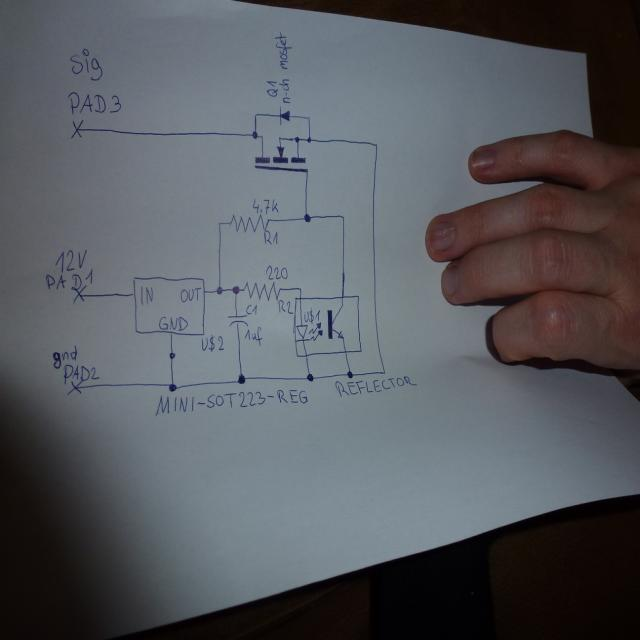capacitor: (226, 313, 247, 327)
diode: (276, 107, 292, 125)
junction: (236, 372, 247, 385), (231, 282, 241, 296), (167, 380, 178, 392), (305, 370, 314, 382), (215, 284, 224, 296), (302, 212, 311, 223), (346, 368, 353, 379), (372, 140, 380, 149), (252, 130, 258, 140), (379, 366, 386, 373), (339, 213, 345, 220), (306, 136, 312, 143), (217, 220, 222, 227), (297, 286, 302, 291), (253, 111, 257, 117), (306, 114, 310, 120)
resistor: (239, 278, 282, 303), (227, 212, 271, 236)
terminal: (69, 284, 88, 304), (65, 379, 83, 397), (69, 118, 84, 139)
text: (153, 388, 309, 417), (65, 81, 121, 117), (336, 375, 413, 397), (67, 49, 106, 92), (44, 266, 94, 291), (270, 31, 291, 82), (53, 247, 88, 274), (264, 72, 290, 100), (63, 362, 98, 382), (51, 344, 78, 366), (158, 314, 189, 332), (251, 196, 279, 214), (259, 223, 279, 245), (202, 333, 224, 352), (264, 263, 288, 280), (243, 326, 262, 344), (179, 286, 200, 302), (139, 284, 153, 305), (302, 308, 319, 324), (244, 302, 258, 318), (277, 298, 291, 314)
transistor: (253, 132, 310, 173)
